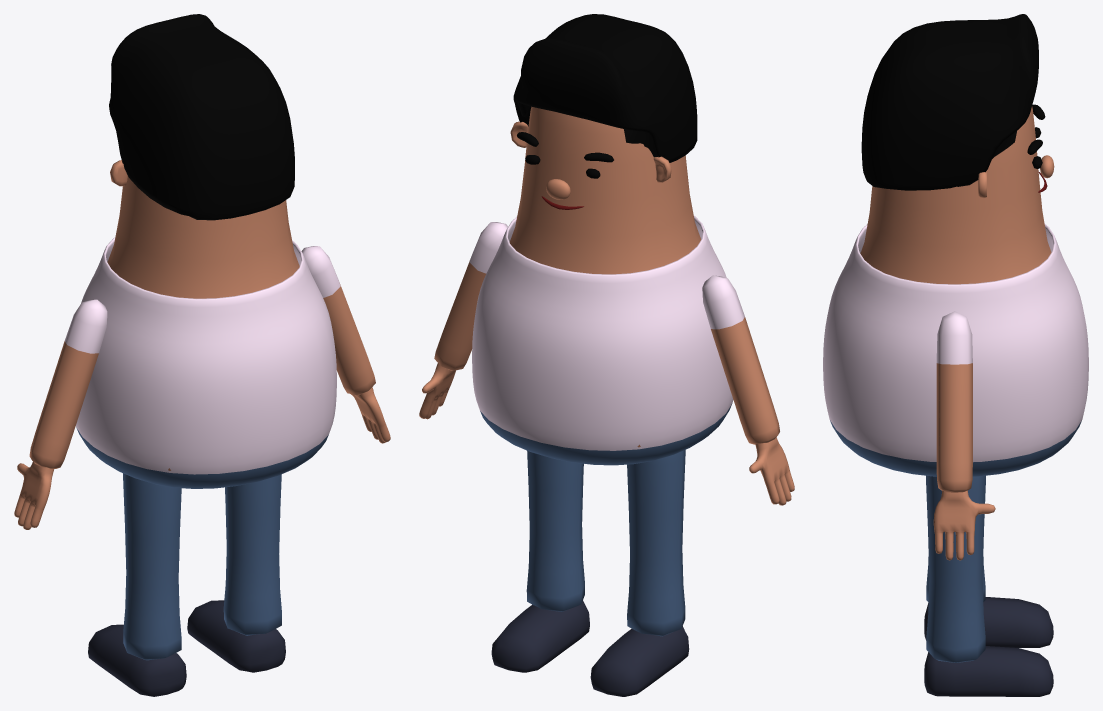
Rendered from Customer2.fbx.
The picture shows the model from 3 angles, left to right: view 1: azimuth 30°, elevation 25°; view 2: azimuth 150°, elevation 25°; view 3: azimuth 270°, elevation 25°; orthographic projection.
Visible parts, largest first — view 1: Customer_2; view 2: Customer_2; view 3: Customer_2.
Part boxes in pixels (box(x1,y1,x2,y2)): Customer_2: box(14, 14, 390, 696); Customer_2: box(419, 14, 794, 696); Customer_2: box(823, 14, 1088, 696).
Size of the model in its own units: 260 by 163 by 430.
